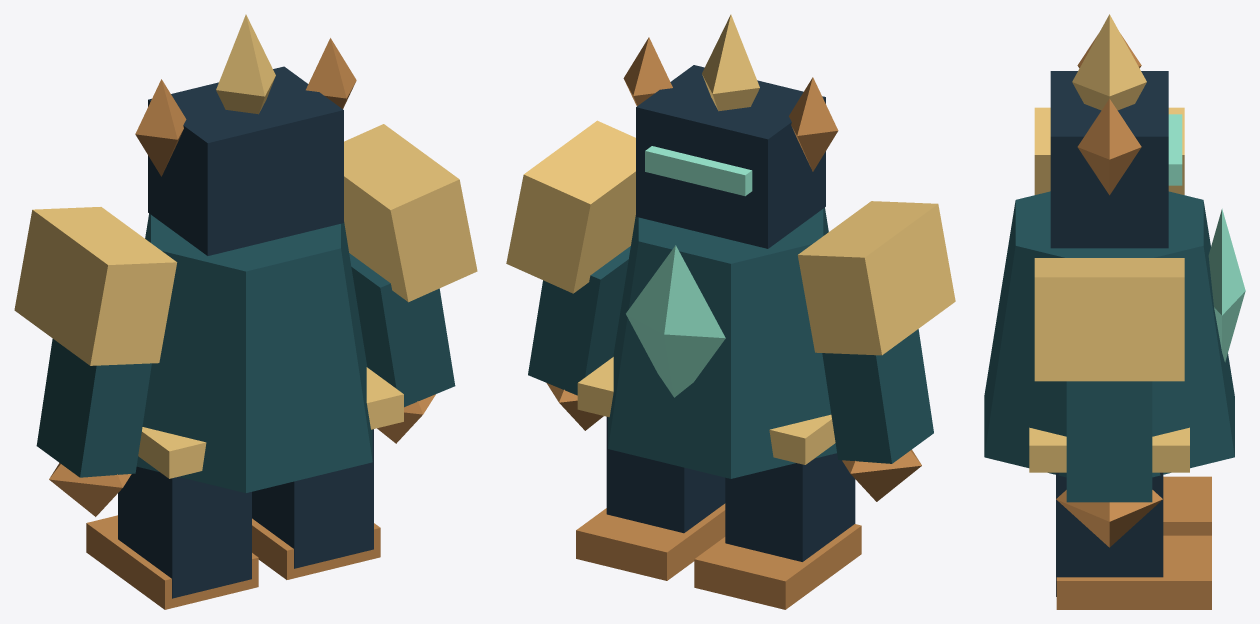
The model's file is ObservatorySentinel.obj.
3 renders of one model, left to right at view 1: azimuth 30°, elevation 25°; view 2: azimuth 150°, elevation 25°; view 3: azimuth 270°, elevation 25°, orthographic. The views are drawn at different scales.
Bounding box in the file's own units: 4.2 × 5.6 × 2.44.
